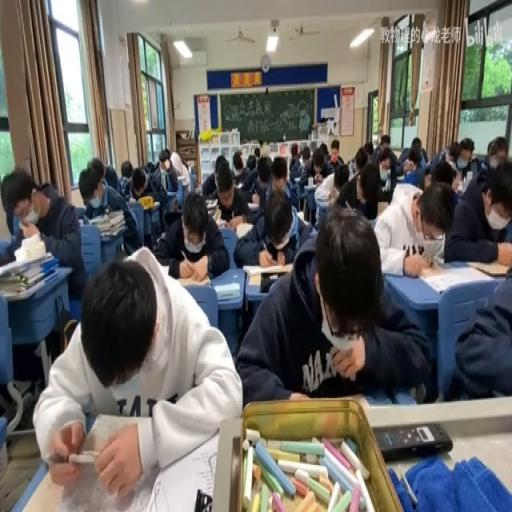calculator: (147, 430, 223, 510), (420, 262, 496, 293), (361, 384, 418, 404), (242, 262, 290, 283), (214, 282, 240, 300), (176, 272, 209, 286), (98, 220, 125, 234), (234, 222, 254, 240), (137, 195, 158, 209), (163, 186, 177, 204), (375, 199, 388, 216), (295, 209, 308, 225), (88, 213, 105, 225), (212, 206, 222, 222), (246, 202, 260, 210), (176, 174, 189, 182), (395, 172, 404, 181), (126, 198, 136, 204), (293, 174, 302, 180)
paper: (36, 245, 241, 492), (237, 210, 426, 410), (2, 165, 87, 300), (374, 178, 451, 273), (152, 186, 229, 279), (446, 157, 512, 263), (82, 158, 143, 257), (336, 156, 382, 219), (139, 150, 173, 230), (291, 144, 317, 212), (242, 155, 274, 209), (396, 135, 428, 178), (226, 148, 248, 190), (432, 159, 456, 189), (486, 135, 507, 168), (201, 161, 220, 196), (455, 138, 474, 171), (270, 158, 288, 192), (327, 138, 343, 165), (104, 162, 118, 192), (89, 156, 104, 180), (131, 171, 145, 195), (120, 159, 133, 178), (214, 154, 226, 174), (259, 139, 270, 158), (362, 141, 374, 158), (158, 155, 169, 172), (312, 158, 322, 176), (245, 155, 255, 171), (318, 142, 328, 158), (379, 135, 390, 149), (299, 150, 309, 164), (409, 154, 418, 168), (348, 158, 355, 175), (290, 145, 298, 158), (253, 145, 259, 162), (145, 160, 155, 170), (296, 145, 302, 157), (374, 138, 381, 148)
person: (374, 422, 452, 461), (193, 488, 212, 509)
